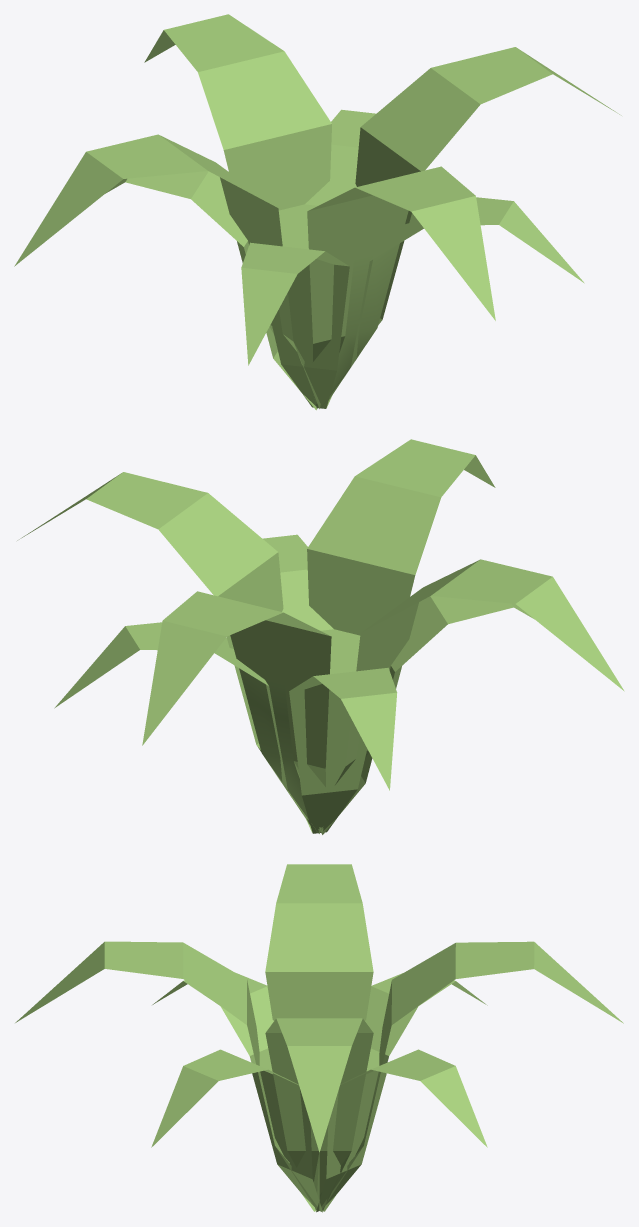
File: Plant_Brush_01.fbx
3 views of the same model, one above another, from view 1: azimuth 30°, elevation 25°; view 2: azimuth 150°, elevation 25°; view 3: azimuth 270°, elevation 25° (orthographic). The views are drawn at different scales.
Parts seen in each view (by area): view 1: Plant_Brush_01; view 2: Plant_Brush_01; view 3: Plant_Brush_01.
Boxes of the visible parts, bbox=[...] form: Plant_Brush_01: bbox=[14, 14, 621, 410]; Plant_Brush_01: bbox=[17, 439, 624, 834]; Plant_Brush_01: bbox=[15, 864, 623, 1212].
Size of the model in its own units: 81.88 by 37.73 by 81.88.
